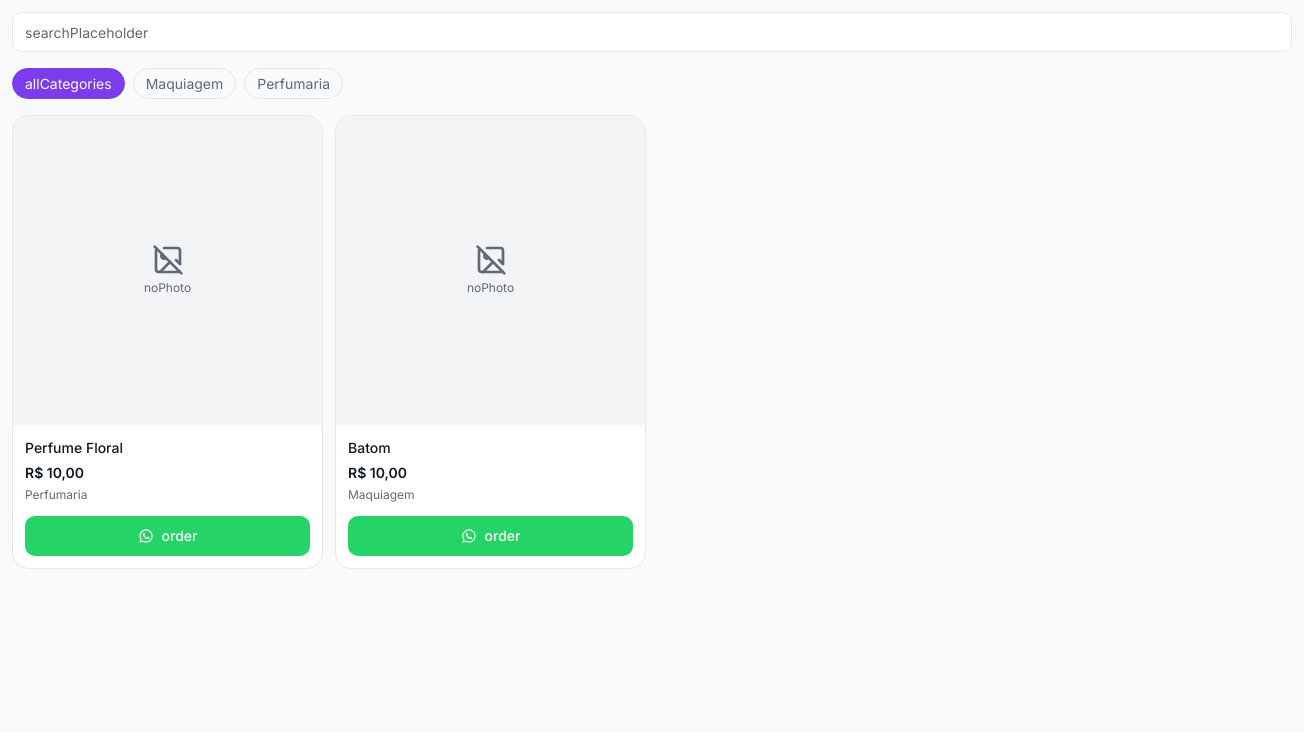
Test: VitrineExplorer › filtra ao escolher uma categoria
Click the button "Maquiagem" at x=184, y=84, box [133,68,236,99]
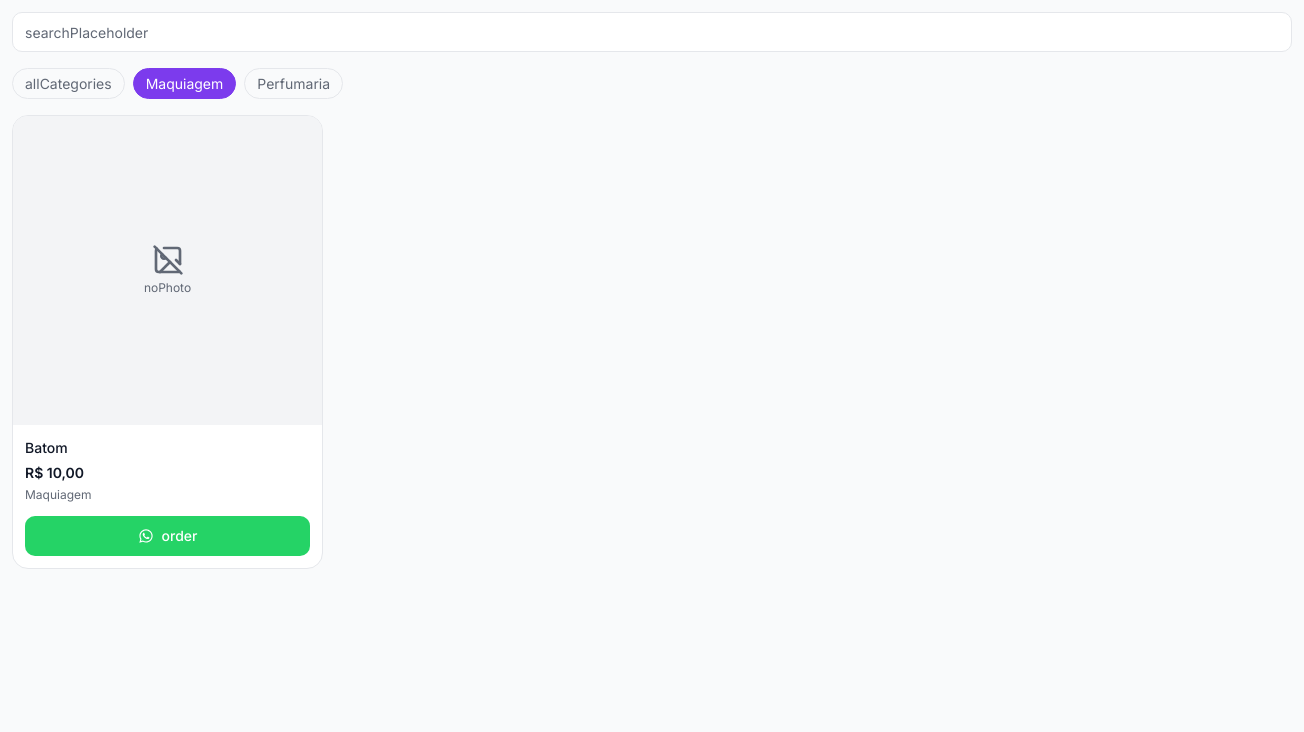
expect the text "Batom" is shown: met, box [25,439,68,456]
expect the button "Perfume Floral" is gone: met
